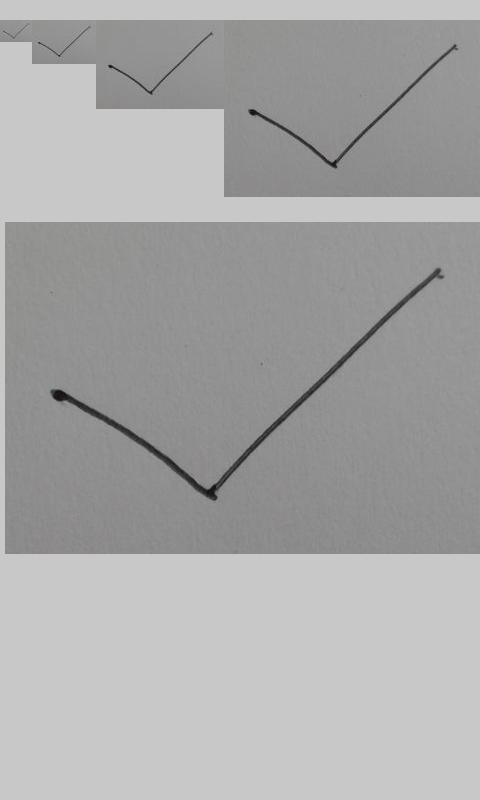check_box: (53, 268, 444, 501), (248, 44, 457, 168), (108, 32, 213, 95), (38, 26, 90, 57), (3, 23, 29, 39)
